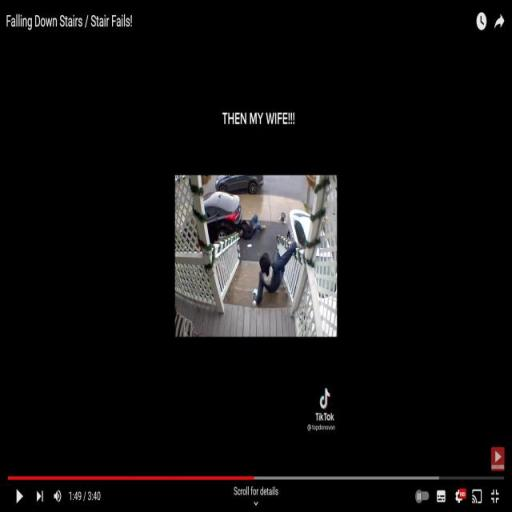Fall: (252, 238, 303, 308), (239, 213, 268, 241)
